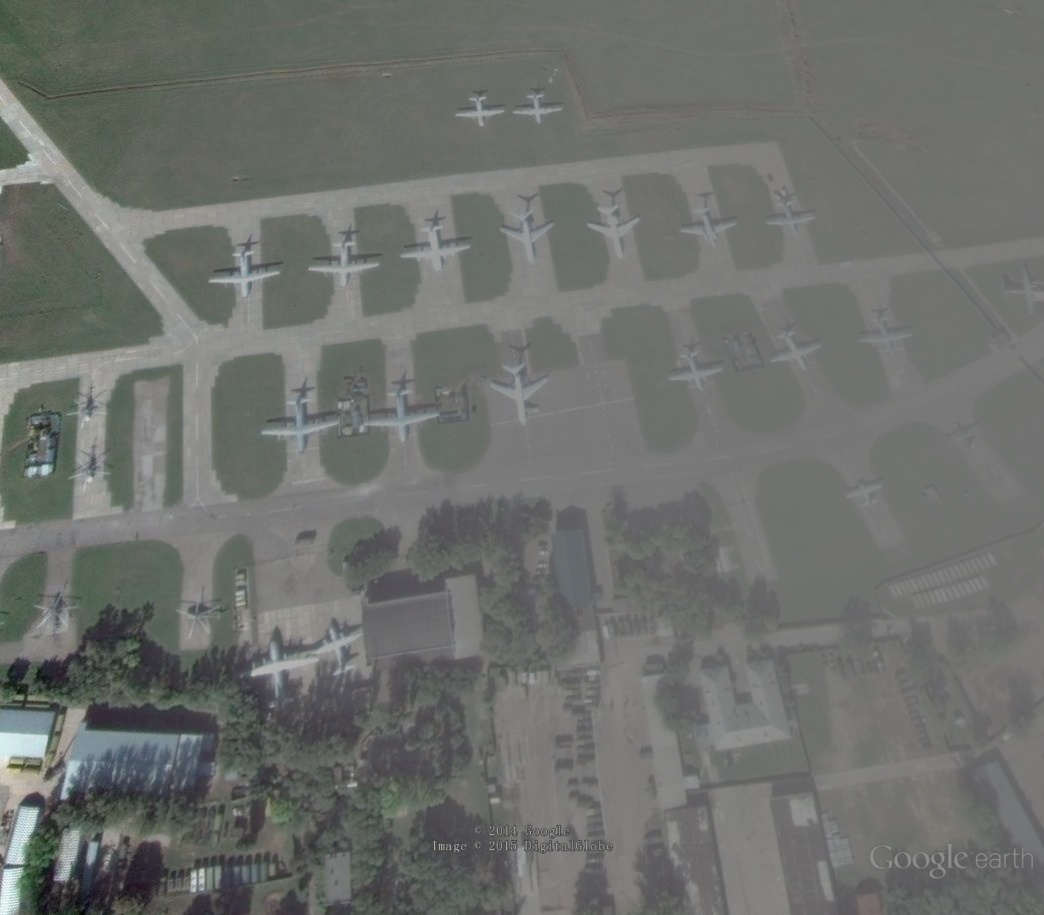aircraft: (235, 627, 322, 700), (360, 382, 445, 448), (259, 390, 343, 454), (487, 357, 552, 430), (397, 220, 477, 274), (304, 238, 385, 291), (205, 249, 286, 300), (585, 202, 648, 264), (304, 621, 370, 676), (673, 208, 744, 258), (762, 187, 822, 246), (498, 211, 558, 267), (856, 313, 918, 358), (666, 351, 727, 394), (766, 330, 826, 373), (999, 261, 1042, 319), (510, 91, 568, 130), (453, 93, 511, 130), (844, 475, 888, 511), (942, 420, 987, 454)
